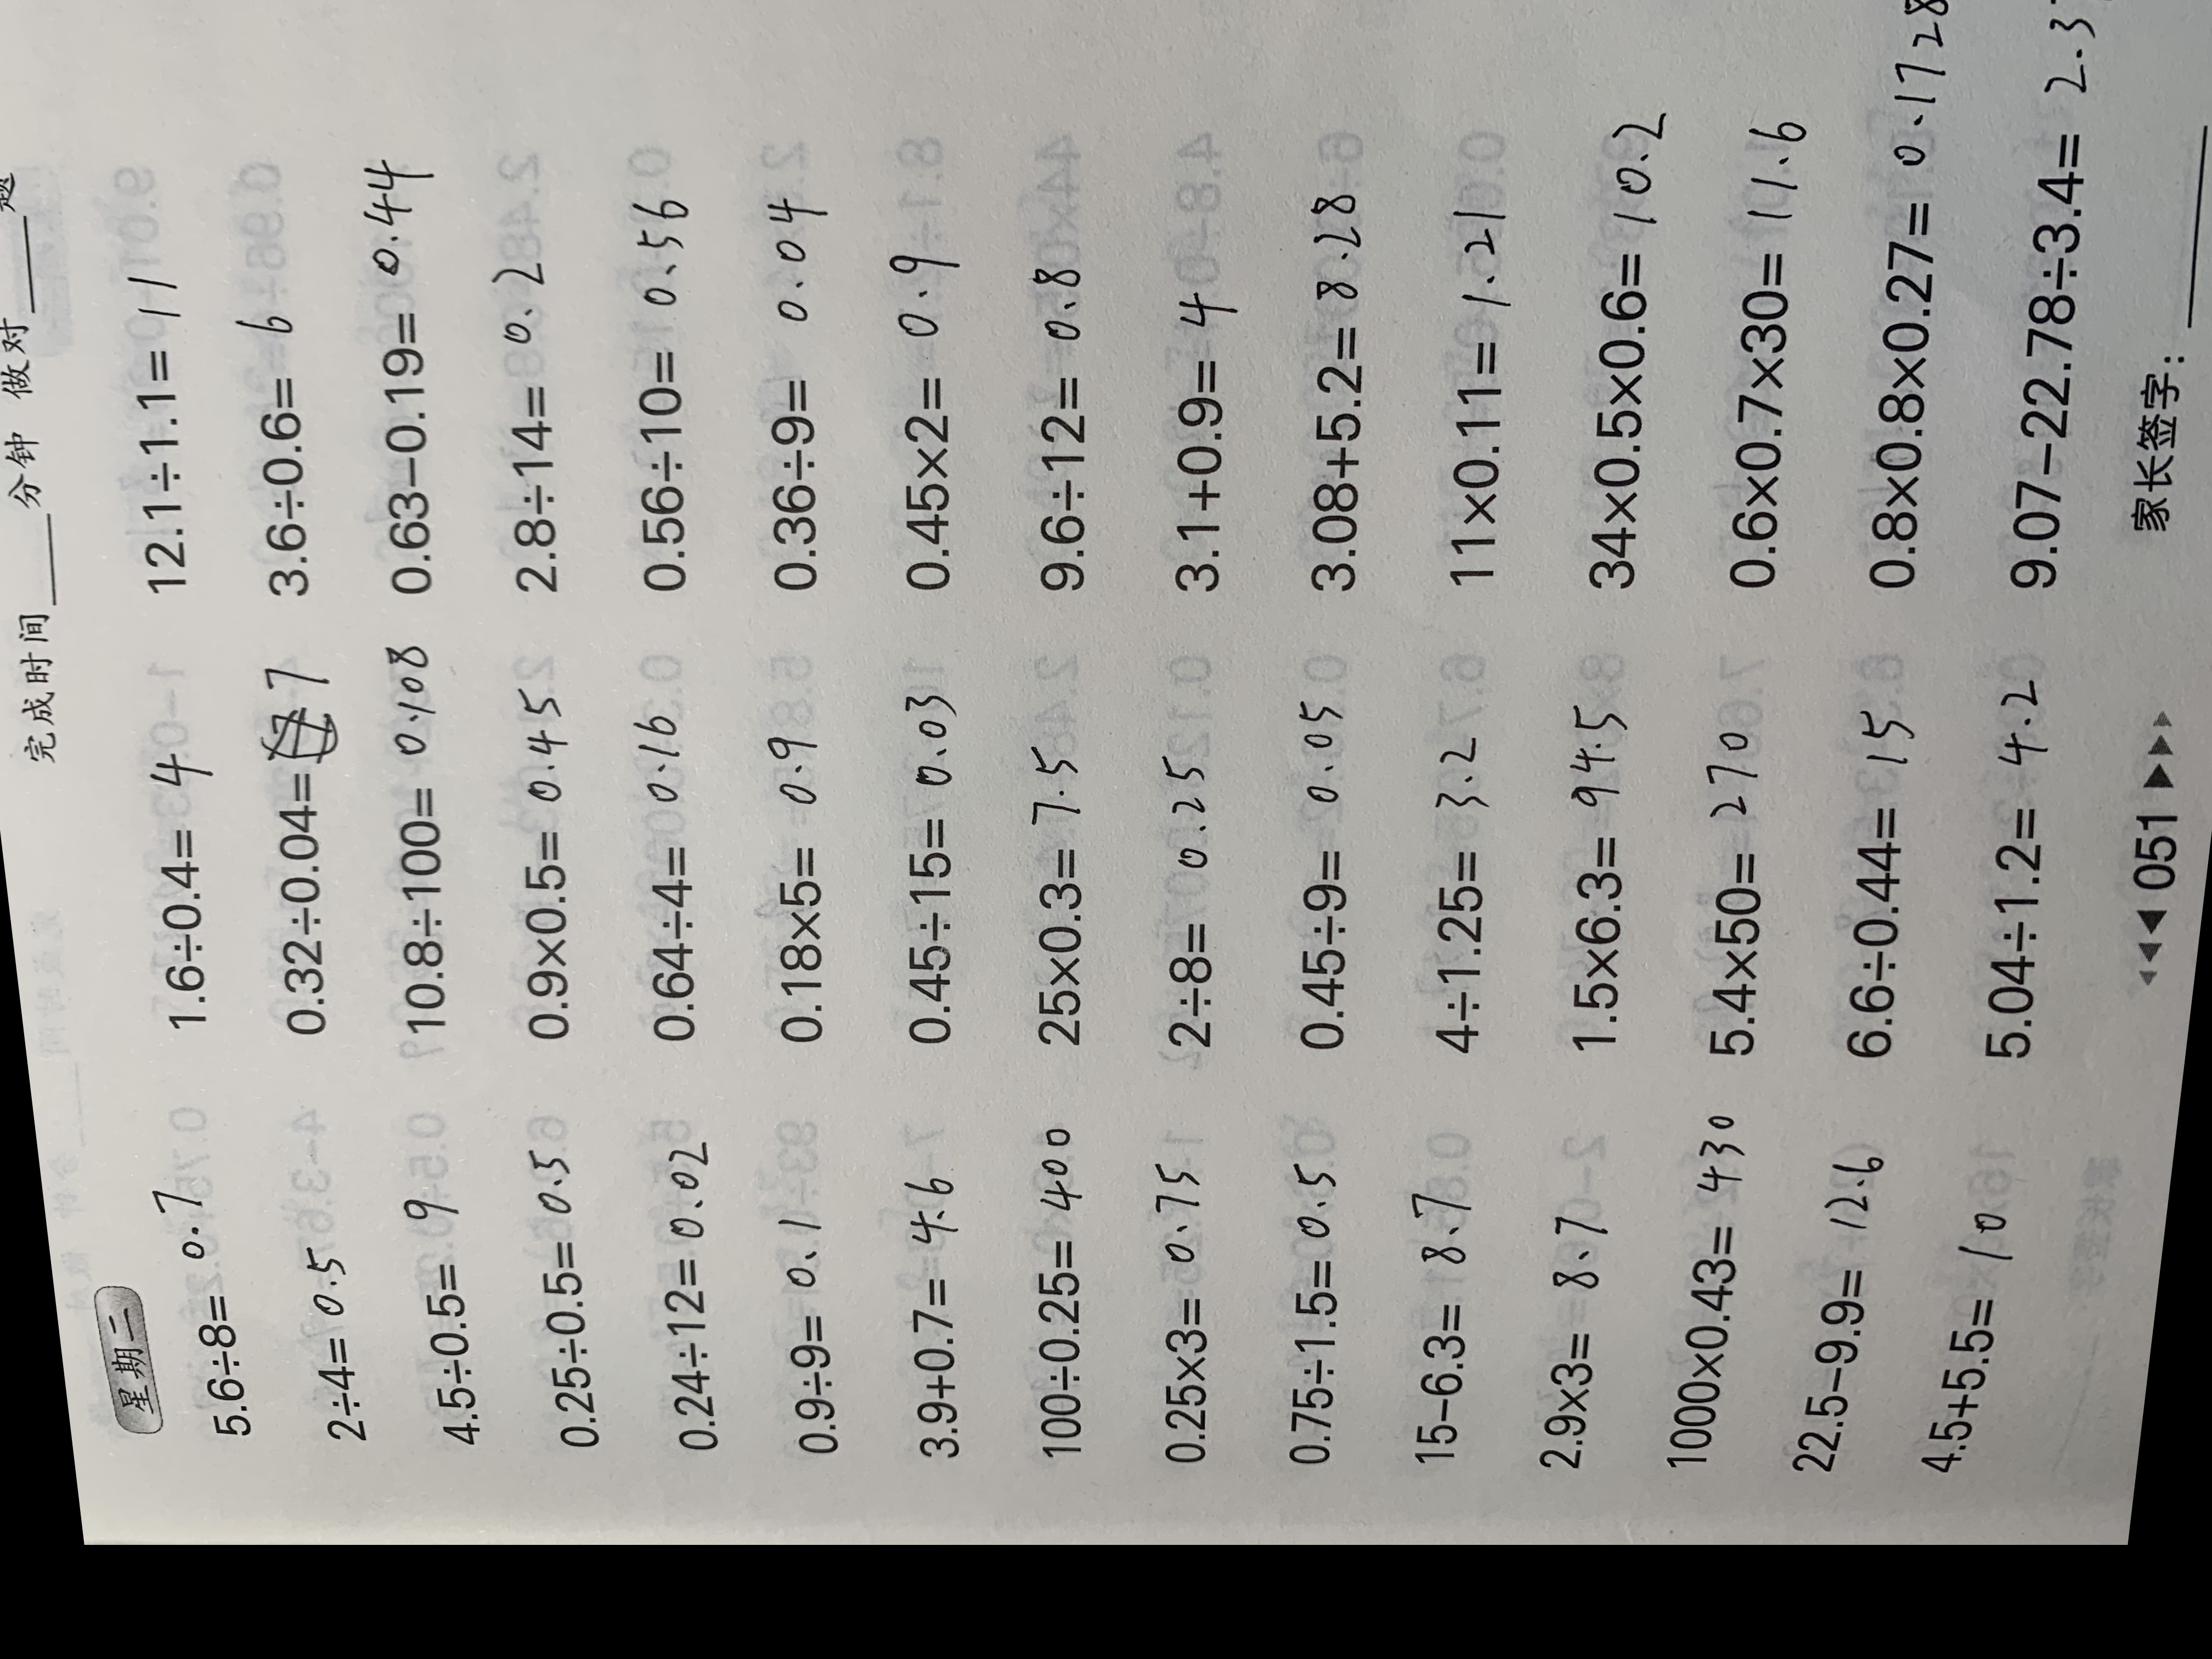equation: (761, 195, 1360, 282), (752, 84, 1244, 173), (1432, 300, 2057, 369), (1416, 1392, 2142, 1450), (1406, 1215, 2022, 1279), (775, 380, 1336, 450), (66, 77, 566, 150), (1418, 936, 1956, 1004), (779, 476, 1289, 542), (780, 295, 1381, 350), (1402, 1310, 2149, 1354), (1430, 497, 1989, 554), (1430, 117, 1932, 179), (1414, 1138, 2029, 1188), (106, 481, 641, 538), (1430, 589, 1980, 645), (1433, 676, 1916, 739), (770, 678, 1312, 734), (1416, 765, 1893, 824), (125, 770, 681, 819), (1440, 396, 1918, 451), (101, 385, 620, 436), (98, 281, 538, 340), (115, 674, 594, 728), (1442, 209, 1865, 270), (779, 1134, 1284, 1185), (1421, 1047, 1925, 1098), (775, 1319, 1277, 1370), (124, 859, 625, 910), (158, 1230, 714, 1276), (772, 955, 1294, 1002), (160, 1314, 662, 1363), (779, 1405, 1313, 1450), (770, 580, 1249, 631), (143, 1040, 589, 1094), (775, 1046, 1245, 1096), (138, 957, 634, 1004), (1420, 870, 1841, 924), (775, 1229, 1254, 1276), (780, 770, 1238, 819), (145, 1136, 563, 1188), (775, 863, 1219, 910), (110, 579, 524, 627), (167, 1405, 583, 1452), (96, 195, 453, 246)
